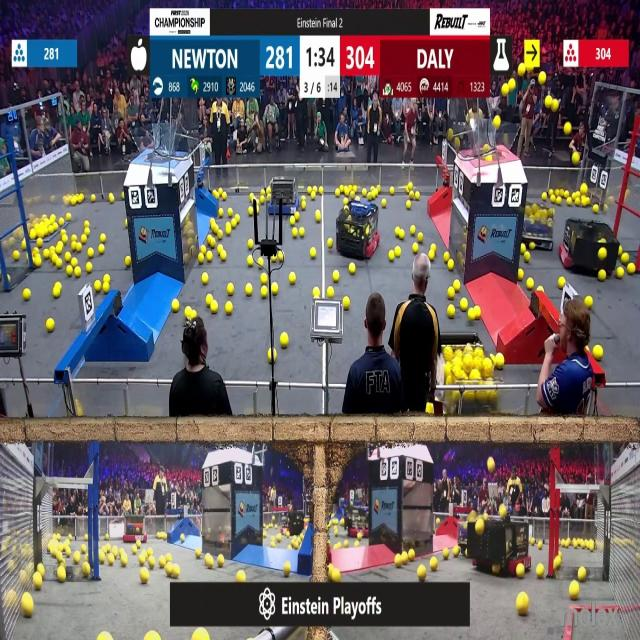ball_airborne: (552, 99, 560, 112), (488, 458, 495, 472), (564, 124, 572, 136), (538, 72, 545, 85), (532, 59, 540, 70), (519, 64, 526, 76), (501, 85, 508, 97), (499, 504, 506, 516), (572, 151, 578, 164), (494, 115, 501, 126), (582, 183, 589, 194), (544, 97, 550, 109), (510, 78, 517, 88), (449, 129, 454, 140), (455, 138, 460, 148)
ball_ground: (518, 594, 529, 615), (24, 595, 34, 617), (569, 583, 579, 600), (594, 346, 603, 361), (58, 567, 67, 582), (34, 573, 42, 589), (495, 354, 504, 368), (280, 334, 288, 349), (141, 568, 149, 583), (333, 568, 342, 581), (418, 565, 426, 579), (45, 318, 53, 332), (536, 564, 544, 578), (577, 568, 585, 582), (517, 564, 525, 578), (172, 564, 180, 578), (237, 570, 246, 582), (55, 283, 62, 298), (284, 561, 291, 576), (448, 306, 456, 319), (82, 563, 90, 576), (206, 555, 214, 568), (426, 404, 434, 417), (164, 564, 172, 577), (210, 302, 218, 314), (586, 295, 594, 307), (202, 274, 210, 286), (394, 555, 402, 567), (554, 557, 562, 569), (628, 264, 636, 276), (460, 300, 468, 312), (259, 286, 267, 298), (343, 296, 350, 309), (429, 558, 436, 571), (598, 271, 606, 282), (172, 301, 180, 312), (139, 555, 147, 566), (146, 632, 157, 640), (225, 303, 232, 315), (24, 288, 31, 300), (454, 280, 461, 292), (99, 552, 106, 564), (622, 252, 629, 264), (618, 269, 626, 279), (102, 283, 110, 293), (492, 566, 500, 576), (226, 283, 233, 294), (409, 551, 416, 562), (518, 270, 525, 281), (349, 265, 356, 276), (74, 553, 81, 564), (160, 556, 167, 567), (57, 243, 64, 254), (450, 548, 457, 559), (289, 273, 295, 285), (218, 555, 224, 567), (316, 210, 322, 222), (269, 350, 275, 362), (67, 266, 73, 278), (108, 554, 114, 566), (468, 309, 474, 321), (401, 553, 407, 565), (558, 278, 565, 288), (74, 268, 81, 278), (34, 256, 41, 266), (120, 556, 127, 566), (291, 229, 298, 239), (388, 251, 395, 261), (331, 272, 338, 282), (123, 256, 130, 266), (277, 251, 284, 261), (211, 222, 218, 232), (37, 564, 44, 574), (272, 283, 278, 294), (246, 284, 252, 295), (96, 281, 102, 292), (448, 261, 454, 272), (184, 308, 190, 319), (148, 557, 154, 568), (260, 274, 266, 285), (99, 634, 110, 640), (314, 287, 320, 297), (100, 244, 106, 254), (527, 279, 533, 289), (247, 256, 253, 266), (418, 234, 424, 244), (310, 248, 316, 258), (474, 308, 479, 320), (220, 251, 226, 261), (524, 252, 530, 262), (88, 264, 94, 274), (195, 549, 201, 559), (413, 244, 419, 254), (90, 248, 96, 258), (449, 288, 455, 298), (444, 550, 450, 560), (199, 253, 205, 263), (66, 252, 72, 262), (398, 230, 404, 240), (428, 251, 434, 261), (51, 253, 57, 263), (225, 224, 231, 234), (209, 238, 215, 248), (57, 260, 63, 270), (76, 243, 82, 253), (574, 198, 580, 208), (394, 247, 400, 256), (412, 225, 418, 234), (100, 235, 106, 244), (298, 229, 304, 238), (218, 208, 224, 217), (593, 205, 599, 214), (445, 252, 451, 261), (407, 201, 413, 210), (290, 216, 296, 225), (108, 192, 114, 201), (43, 249, 49, 258), (13, 251, 19, 260), (83, 553, 89, 562), (232, 218, 238, 227), (390, 186, 396, 195), (66, 549, 72, 558), (76, 409, 82, 418), (327, 287, 332, 297), (248, 240, 253, 250), (207, 252, 212, 262), (190, 310, 195, 320), (207, 294, 212, 304), (20, 238, 25, 248), (357, 535, 364, 542), (326, 240, 332, 248), (104, 275, 110, 283), (528, 243, 534, 251), (248, 208, 254, 216), (92, 193, 98, 201), (430, 244, 436, 252), (166, 554, 172, 562), (272, 254, 278, 262), (541, 192, 547, 200), (112, 545, 118, 553), (335, 528, 341, 536), (261, 197, 266, 206), (72, 257, 77, 266), (133, 544, 138, 553), (227, 208, 232, 217), (557, 197, 562, 206), (521, 244, 526, 253), (183, 254, 188, 263), (34, 238, 39, 247), (336, 542, 342, 549), (318, 187, 324, 194), (105, 544, 111, 551), (62, 236, 68, 243), (83, 220, 89, 227), (33, 248, 39, 255), (60, 218, 66, 225), (81, 236, 86, 244), (148, 549, 153, 557), (294, 212, 299, 220), (81, 544, 86, 552), (201, 245, 206, 253), (72, 242, 76, 252), (567, 199, 572, 207), (217, 232, 222, 240), (410, 190, 415, 198), (299, 202, 304, 210), (381, 200, 386, 208), (221, 192, 227, 198), (344, 540, 349, 547), (537, 541, 542, 548), (67, 213, 72, 220), (341, 520, 346, 527), (344, 199, 349, 206), (258, 257, 262, 265), (416, 191, 420, 199), (184, 537, 188, 545), (250, 192, 254, 200), (337, 188, 341, 196), (308, 186, 312, 194), (272, 541, 277, 547), (120, 191, 124, 198), (278, 537, 282, 544), (355, 540, 359, 547), (72, 235, 76, 242), (84, 227, 88, 234), (312, 192, 316, 199), (84, 537, 88, 544), (136, 541, 140, 548), (552, 196, 556, 203), (105, 533, 108, 540), (288, 544, 292, 549), (265, 534, 269, 539)
goal: (465, 122, 520, 160), (131, 129, 188, 160)
robot_blue: (520, 200, 554, 249), (268, 171, 300, 214)
robot_red: (435, 332, 498, 407), (604, 515, 640, 633), (467, 511, 531, 575), (561, 216, 622, 277), (336, 198, 380, 260), (344, 496, 371, 539), (123, 516, 148, 544), (280, 511, 306, 537)
